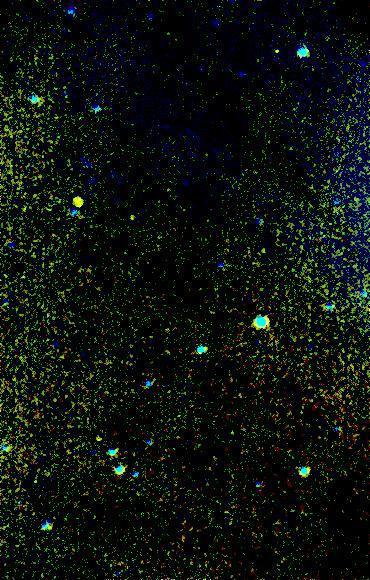star: (62, 187, 92, 217)
